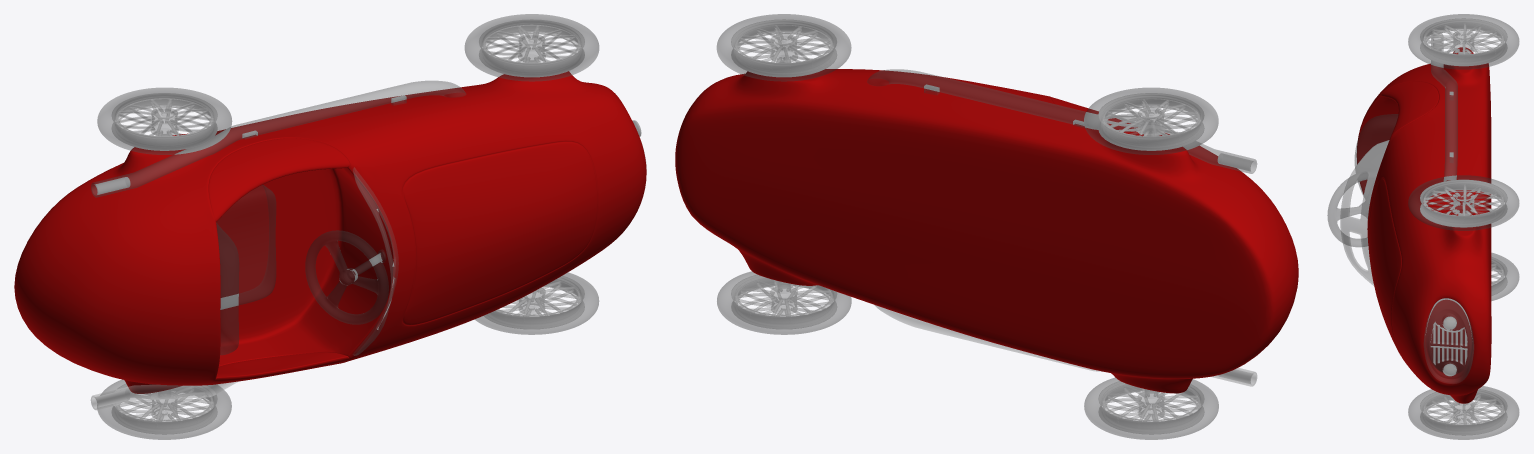
Rendered from RedRacer.glb.
The picture shows the model from 3 angles, left to right: view 1: azimuth 30°, elevation 25°; view 2: azimuth 150°, elevation 25°; view 3: azimuth 270°, elevation 25°; orthographic projection. The views are drawn at different scales.
Visible parts, largest first — view 1: 11675_Car_v1_L3; view 2: 11675_Car_v1_L3; view 3: 11675_Car_v1_L3.
Boxes of the visible parts, x1,y1,x2,y2 form: 11675_Car_v1_L3: (14, 14, 646, 439); 11675_Car_v1_L3: (675, 14, 1298, 439); 11675_Car_v1_L3: (1327, 14, 1519, 439).
Bounding box in the file's own units: 10.94 × 5.2 × 3.63.
9 materials, 1 textured.
